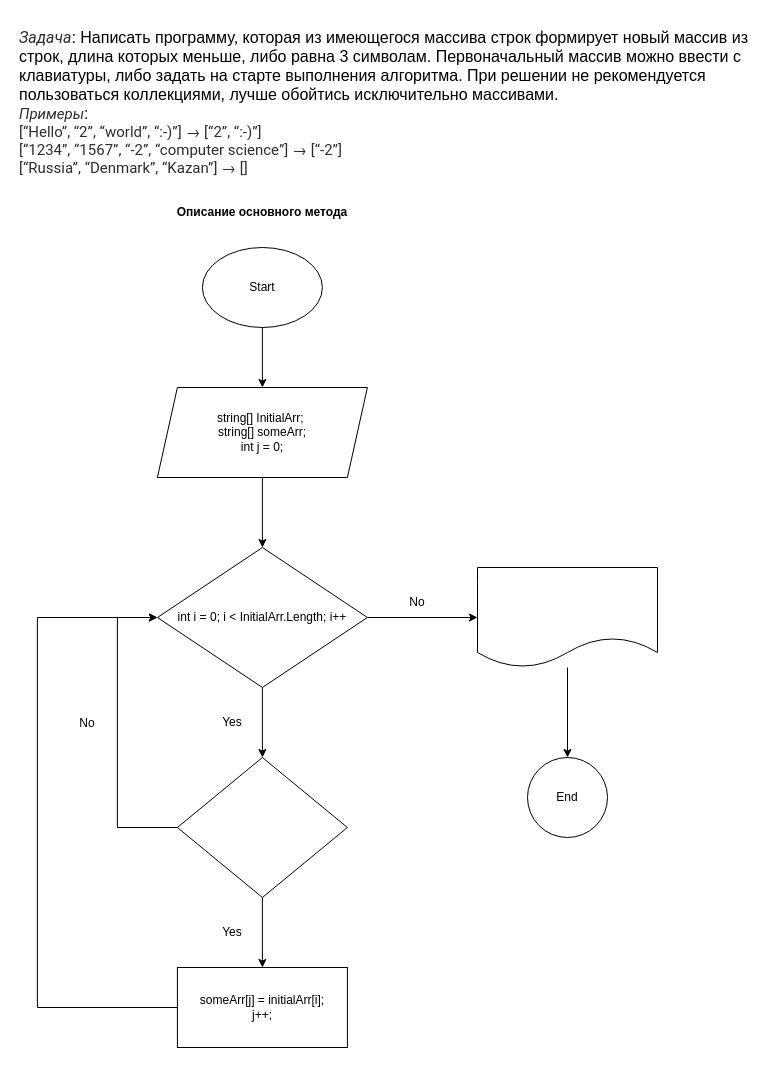
This 774x1065 diagram has some shape labels left out. Each missing label, with the centre of its shape:
InitialArr.Length <= 3: the point at 261,827
return someArr: the point at 567,617
